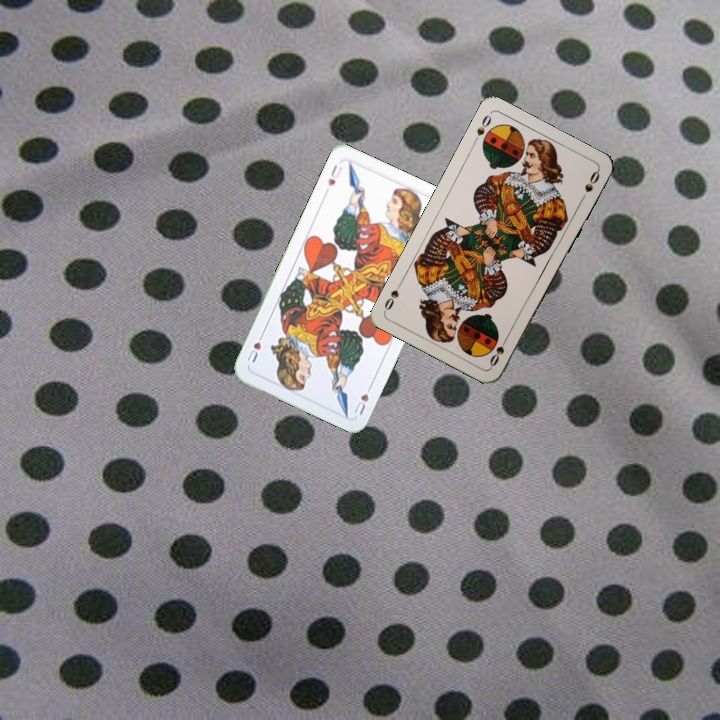HU: (350, 380, 375, 418), (321, 161, 345, 196)
SO: (485, 332, 511, 370), (469, 110, 494, 147)
